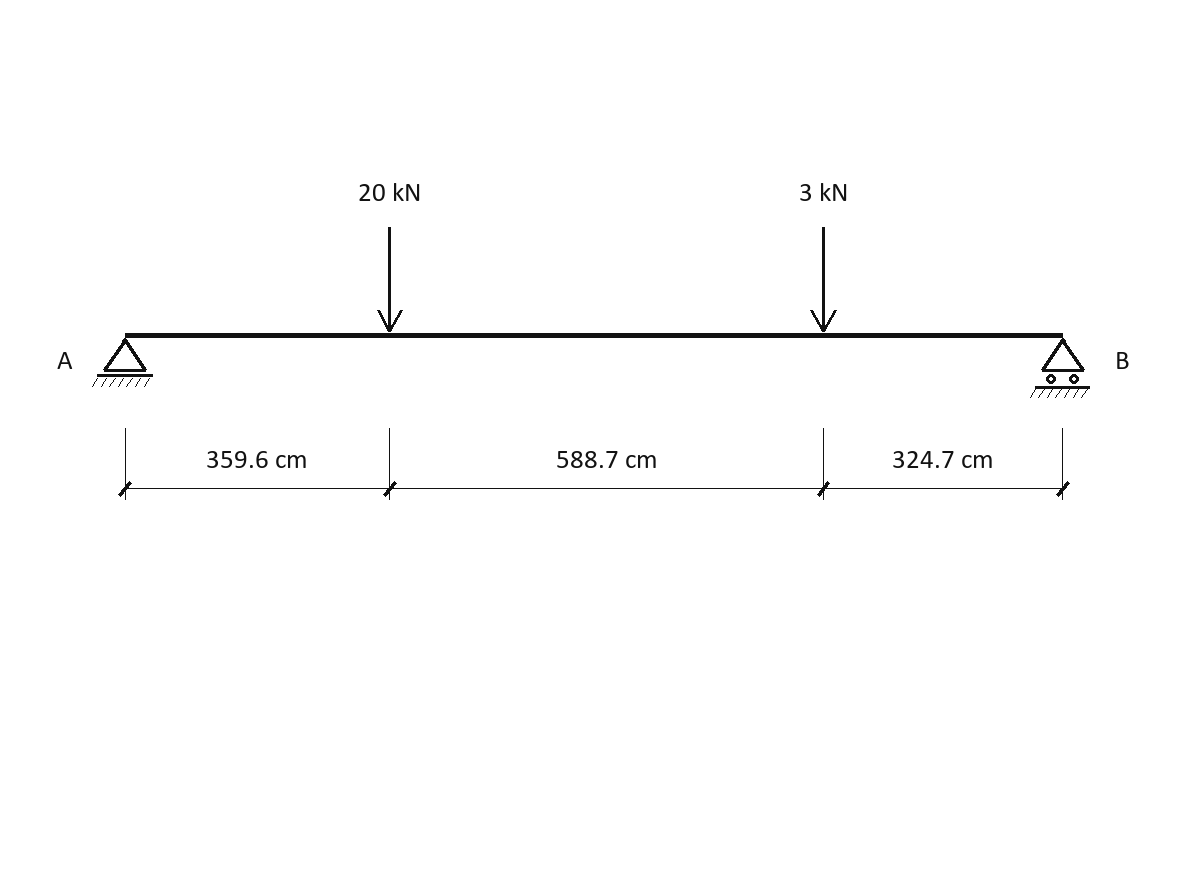pin_support: (92, 338, 153, 387)
point_load: (810, 227, 837, 332), (377, 227, 403, 332)
roller_support: (1030, 338, 1090, 398)
